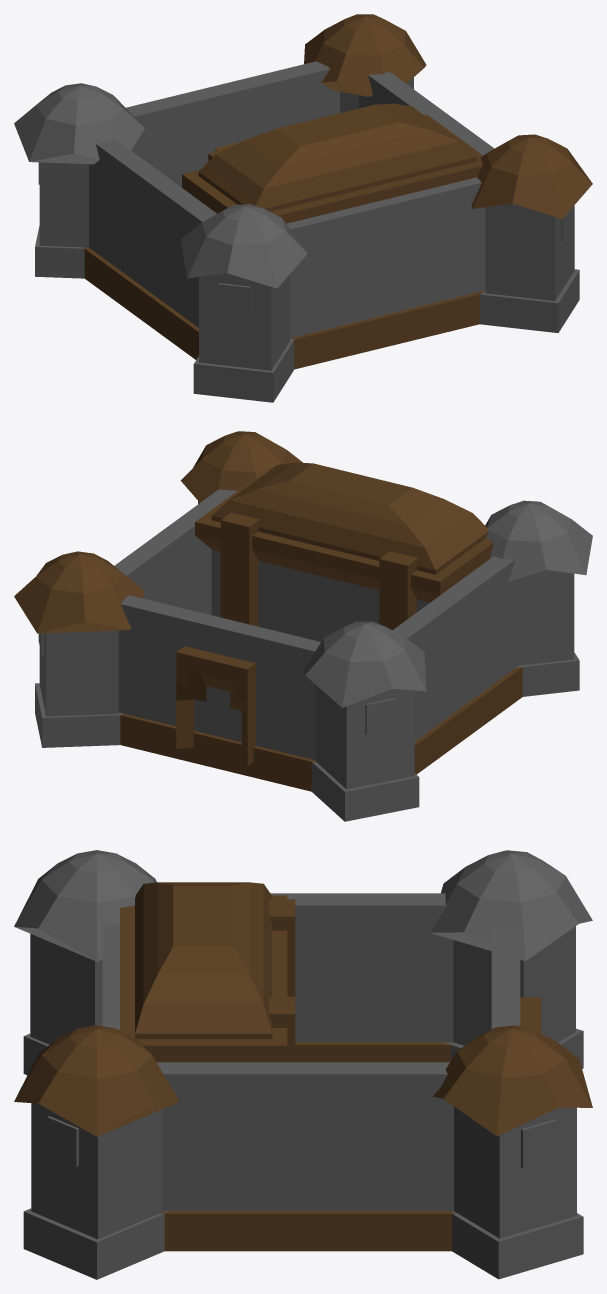
File: Barracks_Normal.fbx
The picture shows the model from 3 angles, top to bottom: view 1: azimuth 30°, elevation 25°; view 2: azimuth 150°, elevation 25°; view 3: azimuth 270°, elevation 25°; orthographic projection. The views are drawn at different scales.
Parts seen in each view (by area): view 1: Wall_02 (×4), Tower_Roof (×4), pCube2, Tower1, Tower4, Wall_04, Tower, Wall_01, Tower_Window; view 2: Wall_02 (×3), pCube2, Tower_Roof (×4), Tower, Tower3, Tower4, Wall_03, House, pCube3, Wall_01, pCube4, Tower_Window; view 3: Wall_02 (×4), Tower_Roof (×4), pCube2, Tower1, Tower3, Wall_05, Tower, Tower4, Wall_01, Tower_Window (×2), pCube4, pCube3 (+1 smaller).
Boxes of the visible parts, <box> form: Wall_02 (×4): <box>89,61,494,337</box>; Tower_Roof (×4): <box>14,14,592,288</box>; pCube2: <box>182,103,482,223</box>; Tower1: <box>479,203,579,333</box>; Tower4: <box>193,273,294,402</box>; Wall_04: <box>290,291,484,369</box>; Tower: <box>35,162,88,278</box>; Wall_01: <box>83,247,198,359</box>; Tower_Window: <box>218,283,250,317</box>; Wall_02 (×3): <box>114,489,518,760</box>; pCube2: <box>195,462,493,641</box>; Tower_Roof (×4): <box>14,431,592,707</box>; Tower: <box>310,685,419,821</box>; Tower3: <box>35,630,123,747</box>; Tower4: <box>516,570,579,696</box>; Wall_03: <box>119,713,316,791</box>; House: <box>176,646,255,766</box>; pCube3: <box>220,512,259,626</box>; Wall_01: <box>414,667,522,774</box>; pCube4: <box>379,551,418,630</box>; Tower_Window: <box>365,698,396,734</box>; Wall_02 (×4): <box>102,893,520,1210</box>; Tower_Roof (×4): <box>14,850,592,1136</box>; pCube2: <box>120,882,287,1062</box>; Tower1: <box>23,1103,167,1279</box>; Tower3: <box>451,1106,583,1279</box>; Wall_05: <box>159,1211,456,1251</box>; Tower: <box>442,926,583,1068</box>; Tower4: <box>23,934,102,1075</box>; Wall_01: <box>295,1042,459,1062</box>; Tower_Window (×2): <box>47,1116,556,1167</box>; pCube4: <box>269,899,295,996</box>; pCube3: <box>269,996,295,1062</box>.
Size of the model in its own units: 14 by 6.42 by 13.97.
